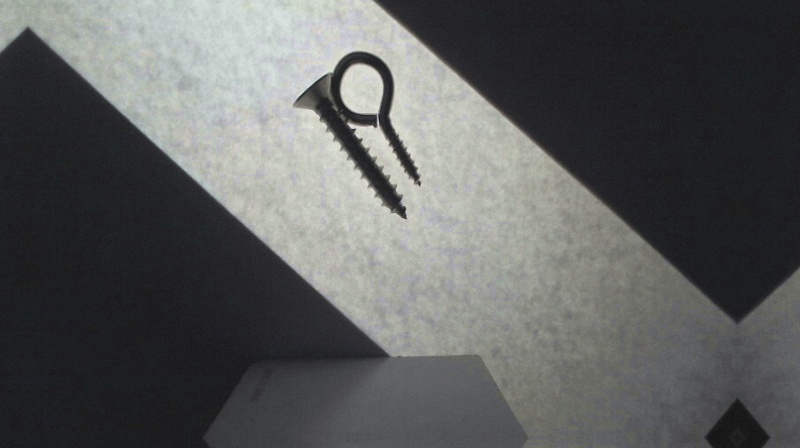O001: (326, 49, 423, 184)
S001: (291, 71, 408, 220)
